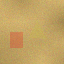structure: (28, 20, 45, 37)
vehicle: (9, 32, 22, 48)
